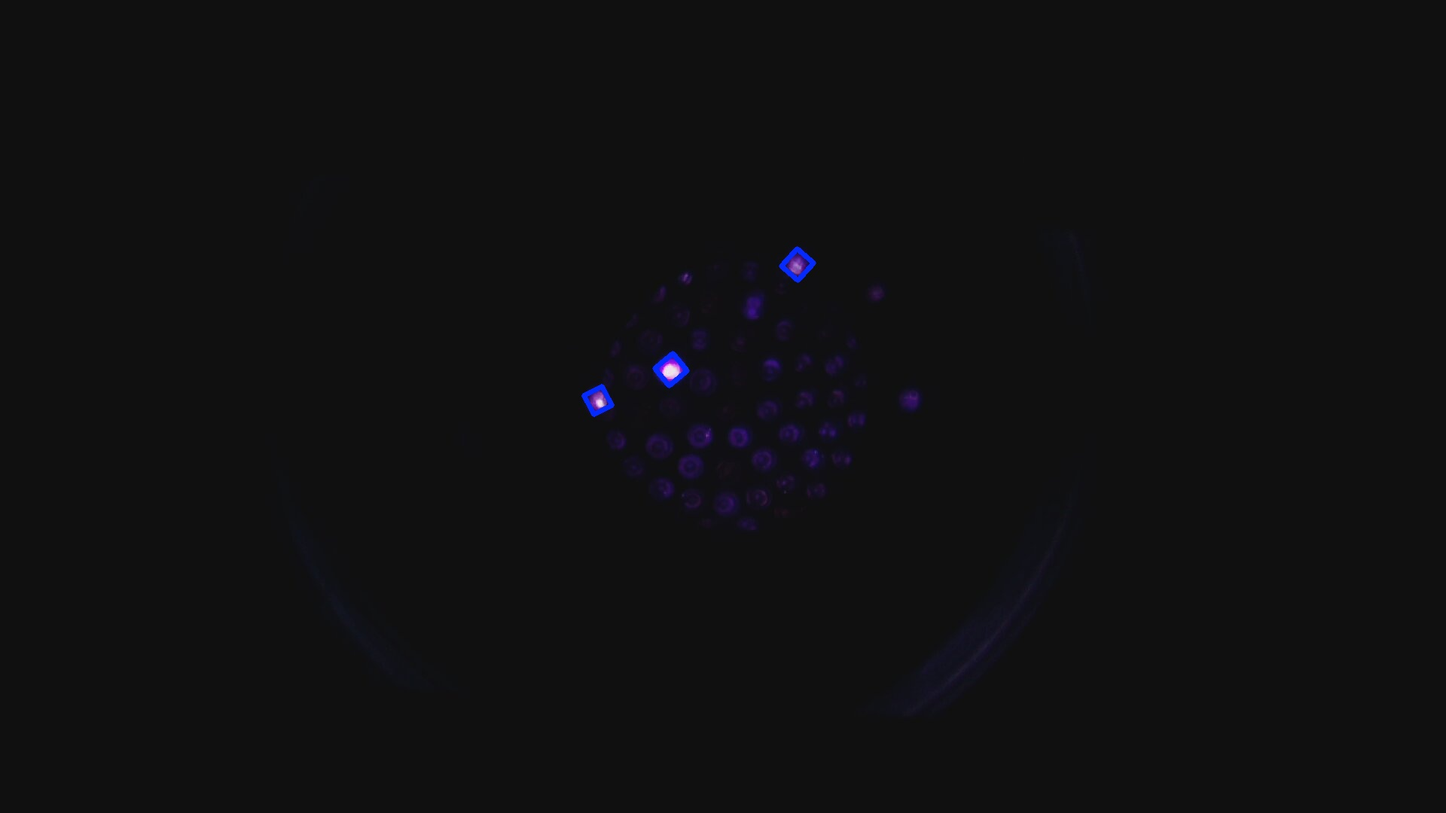plastic: (649, 347, 693, 392), (579, 382, 617, 419)
